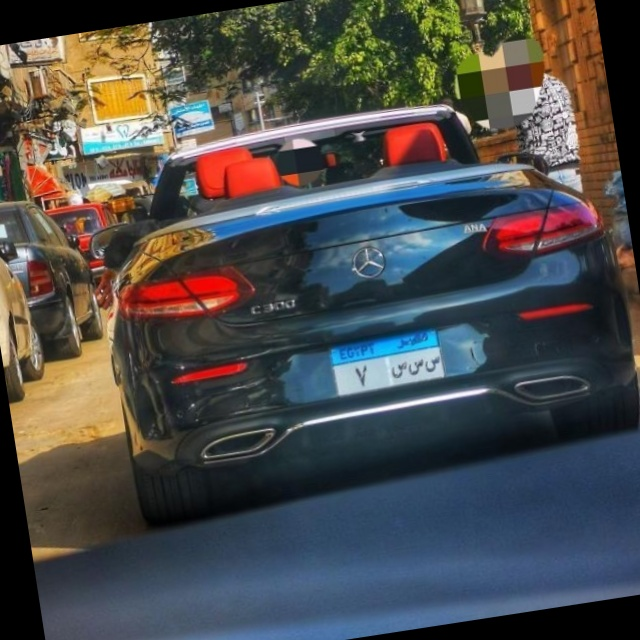License Plate: (325, 323, 449, 401)
